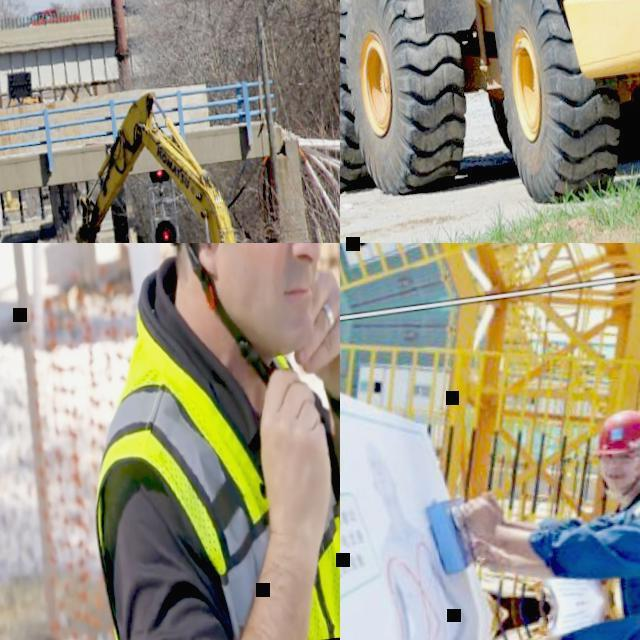helmet: (590, 407, 640, 453)
machinery: (340, 0, 640, 243), (61, 67, 340, 243)
no_mask: (221, 243, 337, 363), (602, 463, 638, 488), (634, 436, 640, 474)
person: (35, 243, 340, 640), (452, 381, 640, 593), (460, 408, 640, 585)
vehicle: (21, 1, 91, 28), (0, 200, 10, 239)
vest: (70, 285, 340, 640)
